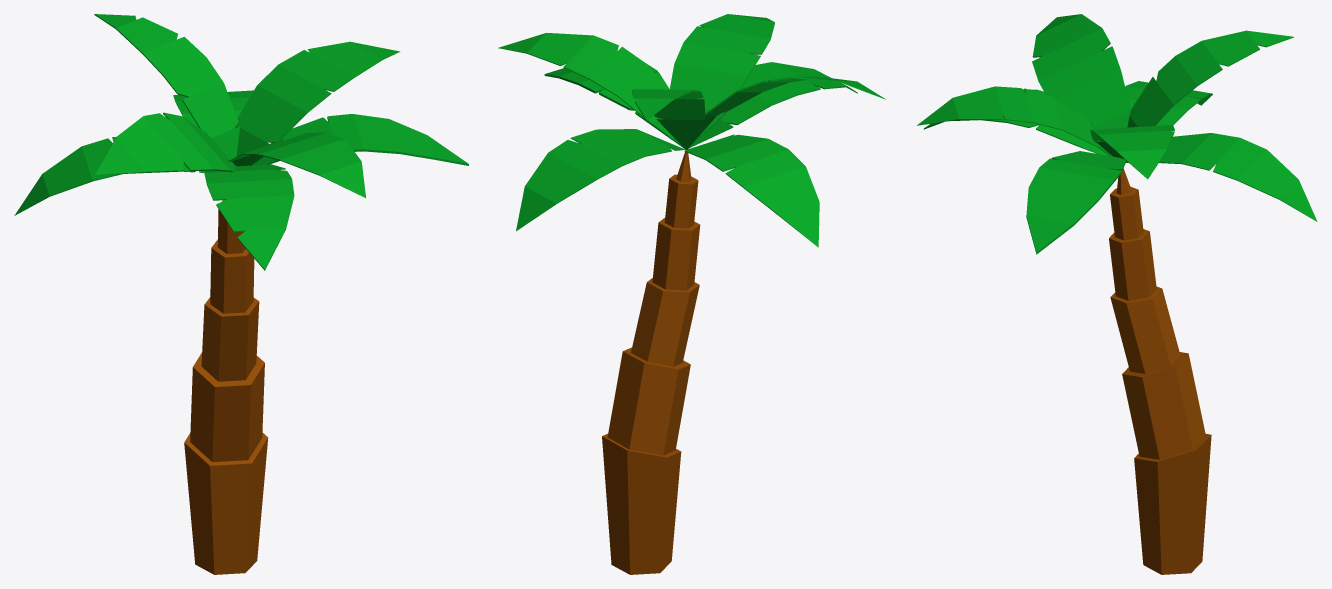
The model's file is treee1.glb.
3 renders of one model, left to right at view 1: azimuth 30°, elevation 25°; view 2: azimuth 150°, elevation 25°; view 3: azimuth 270°, elevation 25°, orthographic. The views are drawn at different scales.
Visible parts, largest first — view 1: Plane.023, Cylinder.028; view 2: Plane.023, Cylinder.028; view 3: Plane.023, Cylinder.028.
Part boxes in pixels (x1,y1,x2,y2): Plane.023: [14, 14, 468, 270]; Cylinder.028: [184, 200, 268, 574]; Plane.023: [498, 14, 886, 247]; Cylinder.028: [602, 152, 700, 574]; Plane.023: [916, 14, 1317, 254]; Cylinder.028: [1109, 168, 1211, 574].
Bounding box in the file's own units: 7.29 × 9.91 × 7.22.
